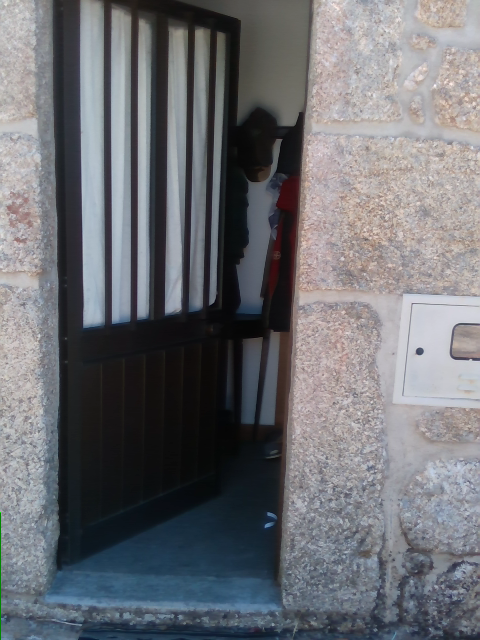semi: (50, 1, 319, 606)
